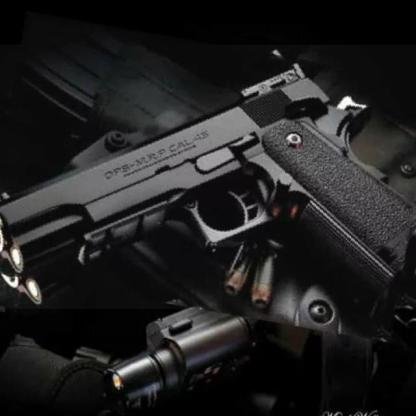handgun: (0, 28, 416, 326)
